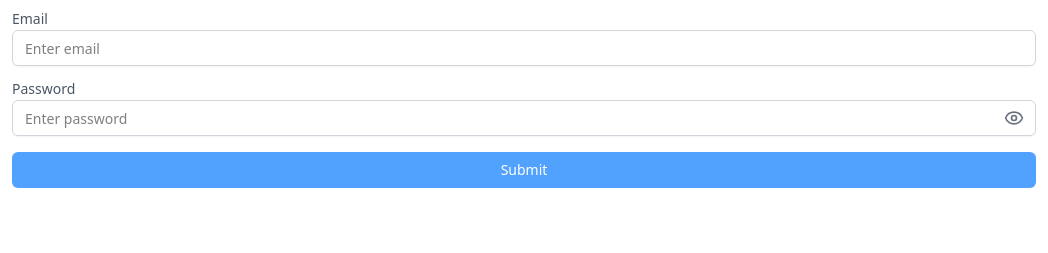
Test case: DynamicForm › displays validation errors for empty fields
This screenshot has width=1048, height=253.
Click the button "Submit" at (524, 170), box [12,152,1036,188]
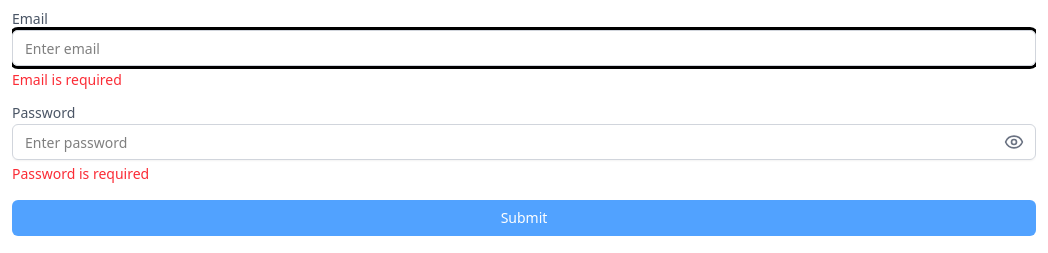
Result: the text "Email is required" is shown at [12,70,122,89]
Result: the text "Password is required" is shown at [12,164,149,183]
